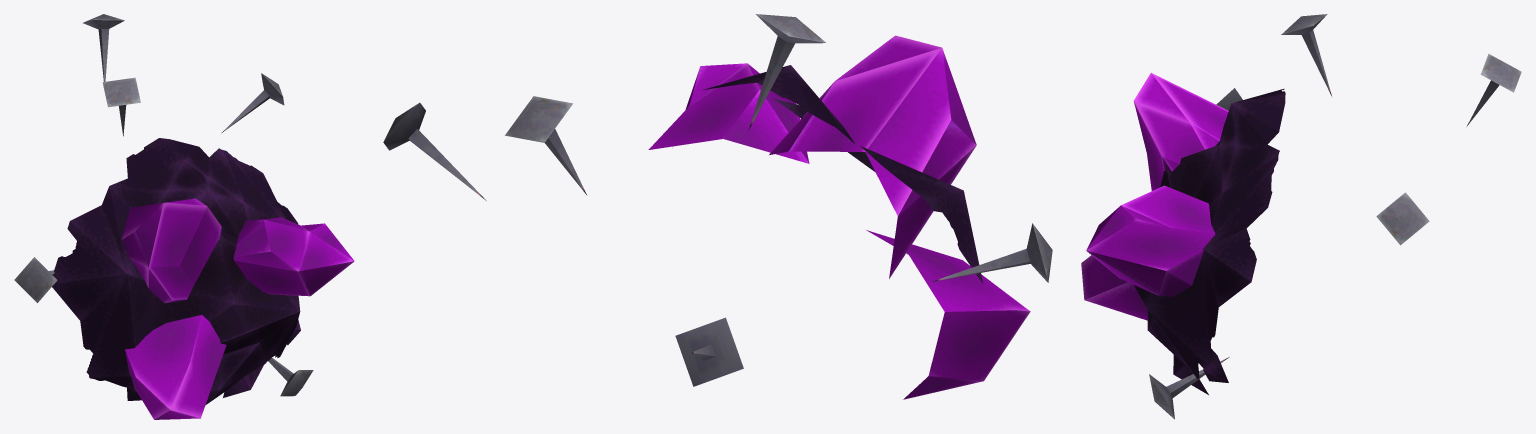
The model's file is model_shellcrystal_attach.glb.
The picture shows the model from 3 angles, left to right: view 1: azimuth 30°, elevation 25°; view 2: azimuth 150°, elevation 25°; view 3: azimuth 270°, elevation 25°; orthographic projection. The views are drawn at different scales.
Visible parts, largest first — view 1: parts.model_shellcrystal_attach-Mesh[0], parts.model_shellcrystal_attach-Mesh[1]; view 2: parts.model_shellcrystal_attach-Mesh[0], parts.model_shellcrystal_attach-Mesh[1]; view 3: parts.model_shellcrystal_attach-Mesh[0], parts.model_shellcrystal_attach-Mesh[1].
Part boxes in pixels (box(x1,y1,x2,y2)): parts.model_shellcrystal_attach-Mesh[0]: box(52, 138, 354, 419); parts.model_shellcrystal_attach-Mesh[1]: box(14, 14, 313, 396); parts.model_shellcrystal_attach-Mesh[0]: box(648, 35, 1030, 399); parts.model_shellcrystal_attach-Mesh[1]: box(383, 14, 1052, 386); parts.model_shellcrystal_attach-Mesh[0]: box(1081, 73, 1285, 394); parts.model_shellcrystal_attach-Mesh[1]: box(1149, 14, 1521, 419).
Bounding box in the file's own units: 2.33 × 1.97 × 2.32.
1 material, 1 textured.
